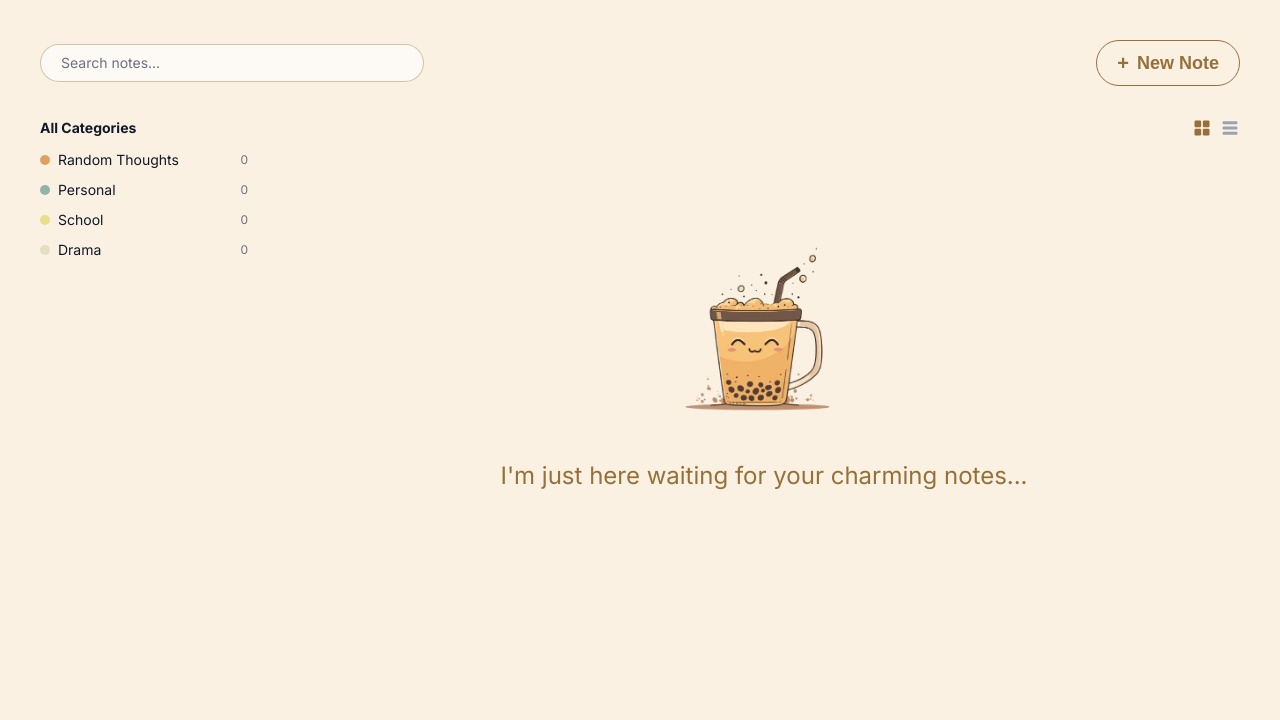
Test: NotesDashboard › opens the note editor when New Note is clicked, and closes it again
This screenshot has width=1280, height=720.
Click the button "+ New Note" at (1168, 63), box [1096,40,1240,86]
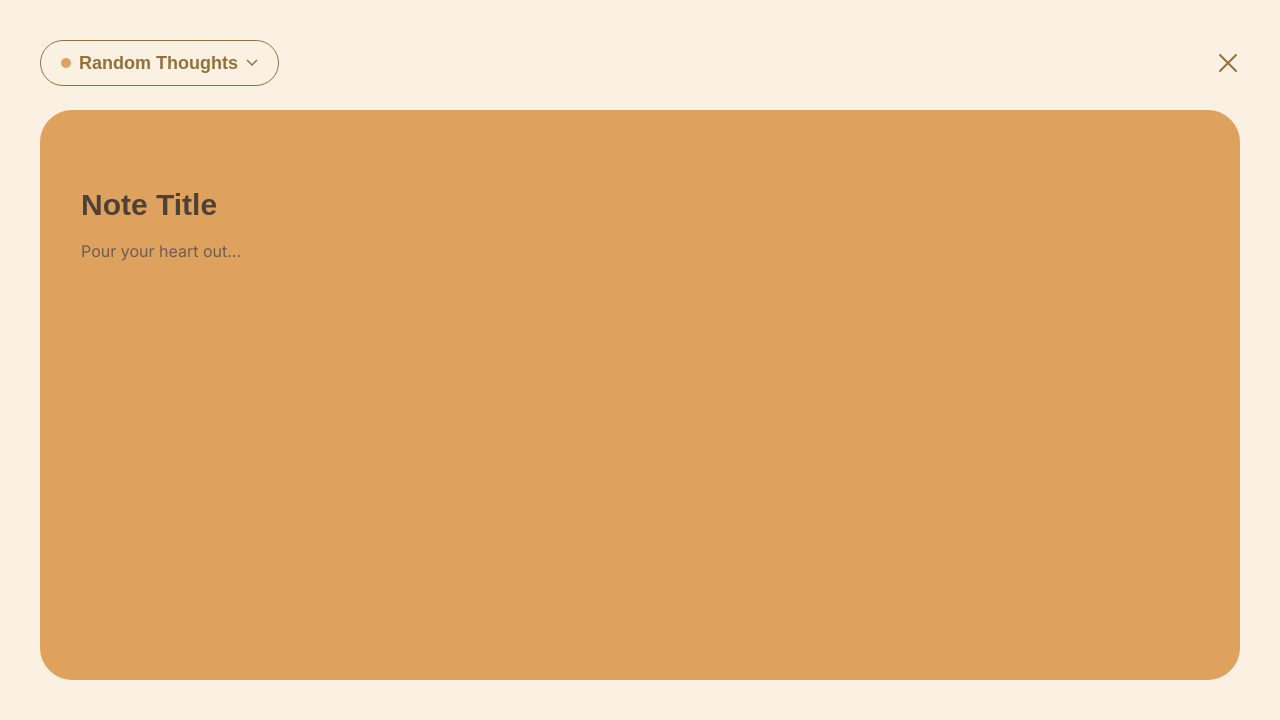
Check: the field with test id "note-title-input" is shown, box [81,187,1199,223]
Click the button named "Close note editor" at (1228, 63), box [1216,51,1240,75]
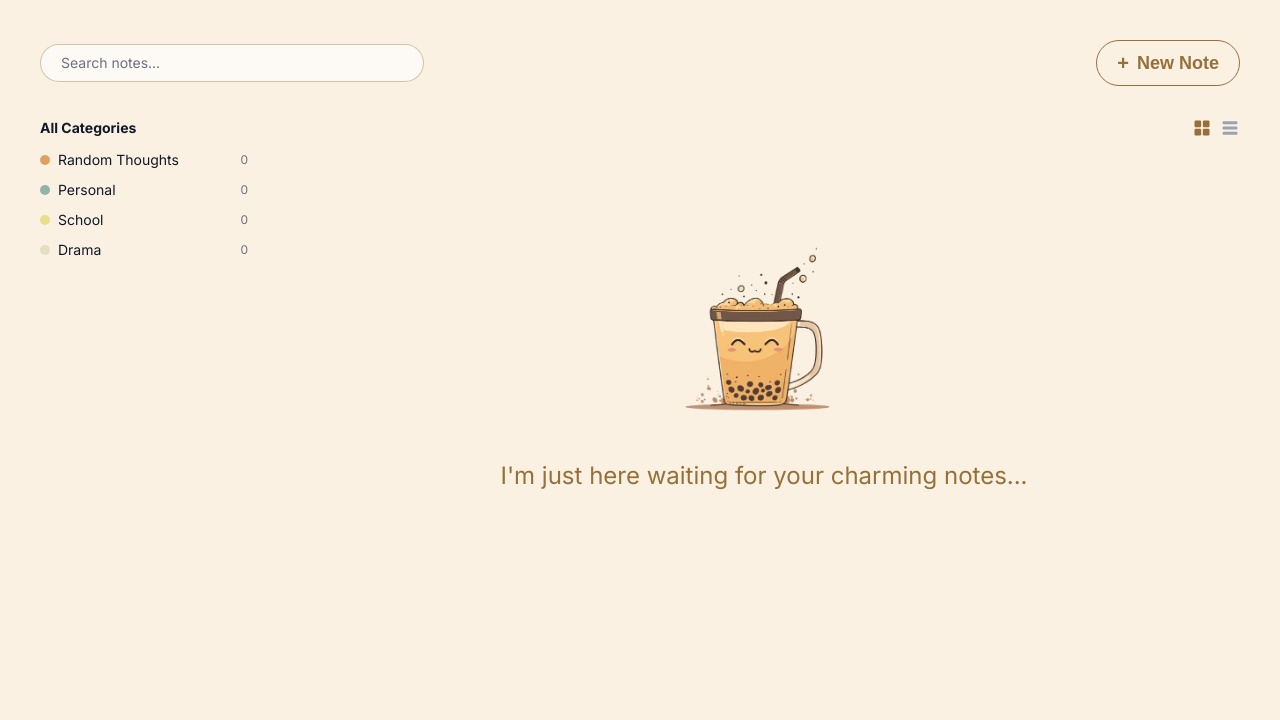
Check: the field with test id "note-title-input" is gone
